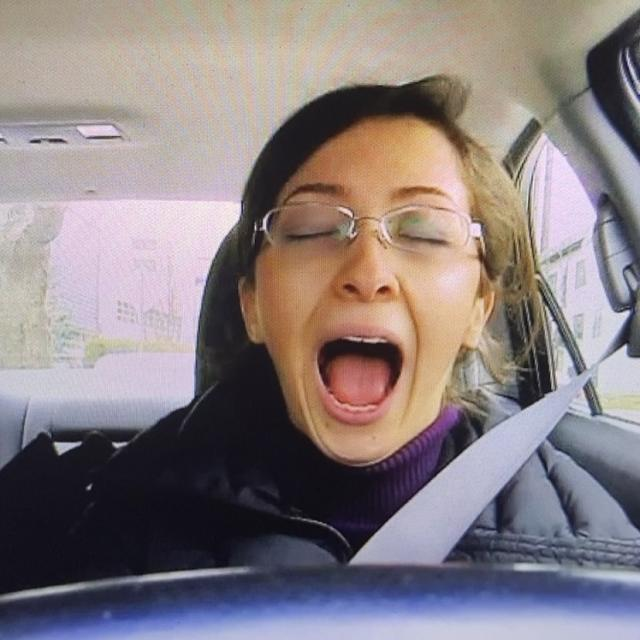open-mouth: (309, 319, 406, 428)
